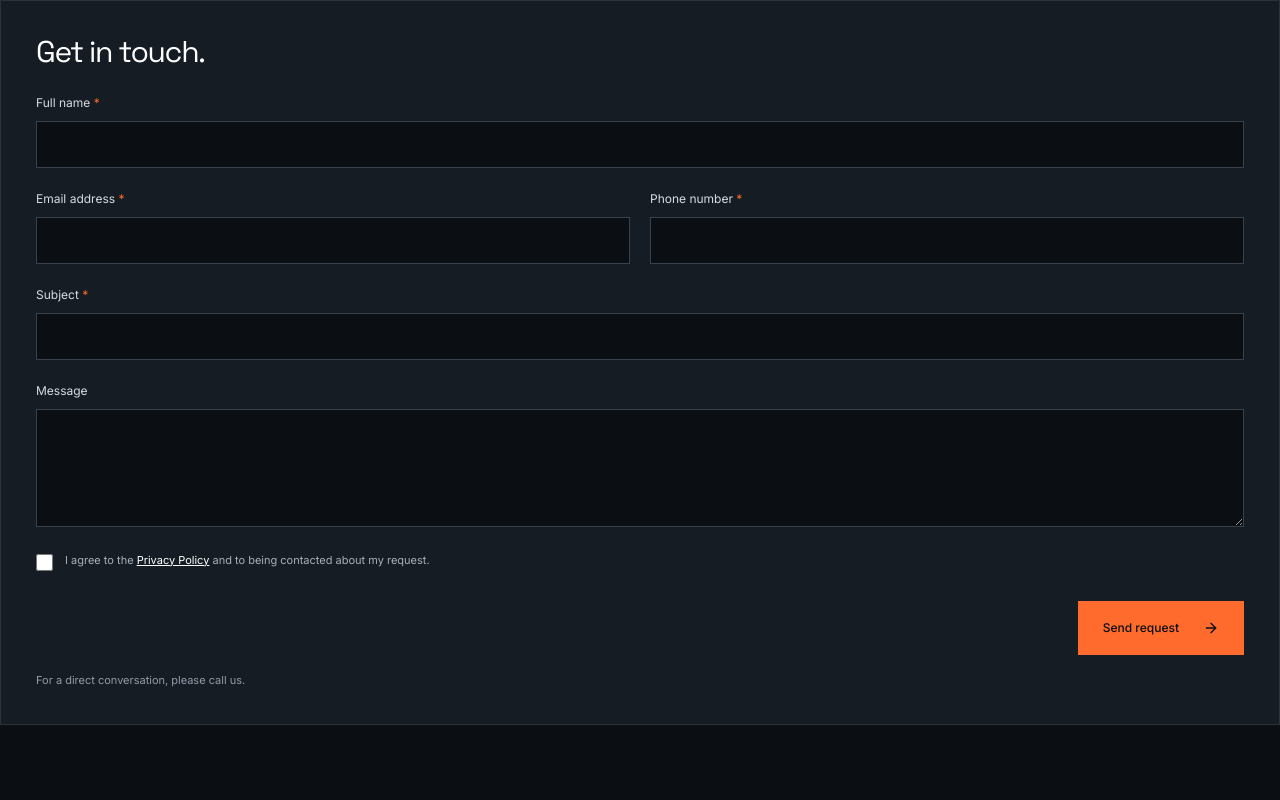
Test case: does not treat an unacknowledged response as success
Type "Test Person" into the field labelled "Full name *".
click(640, 144); type("Test Person")  # box x1=36 y1=121 x2=1244 y2=168
Type "test@example.com" into the field labelled "Email address *".
click(333, 240); type("test@example.com")  # box x1=36 y1=217 x2=630 y2=264
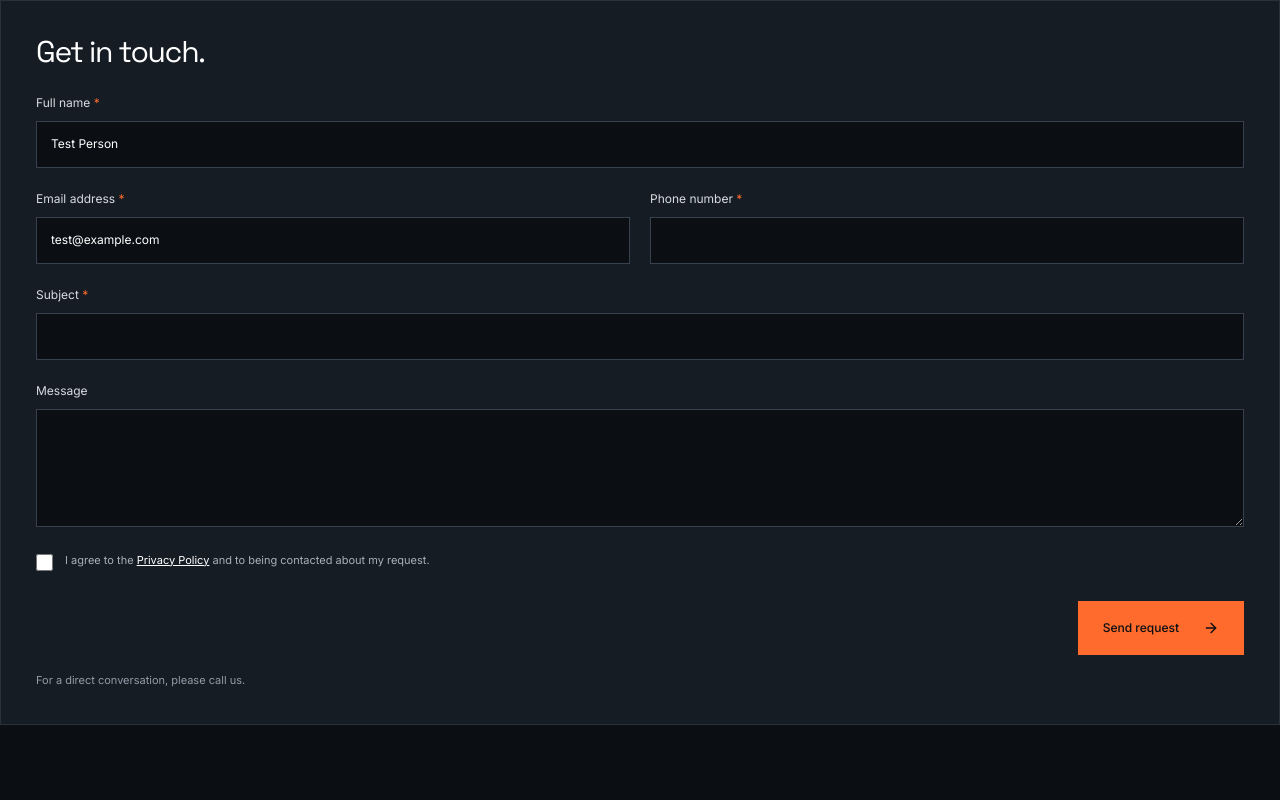
Type "7073098836" into the field labelled "Phone number *".
click(947, 240); type("7073098836")  # box x1=650 y1=217 x2=1244 y2=264
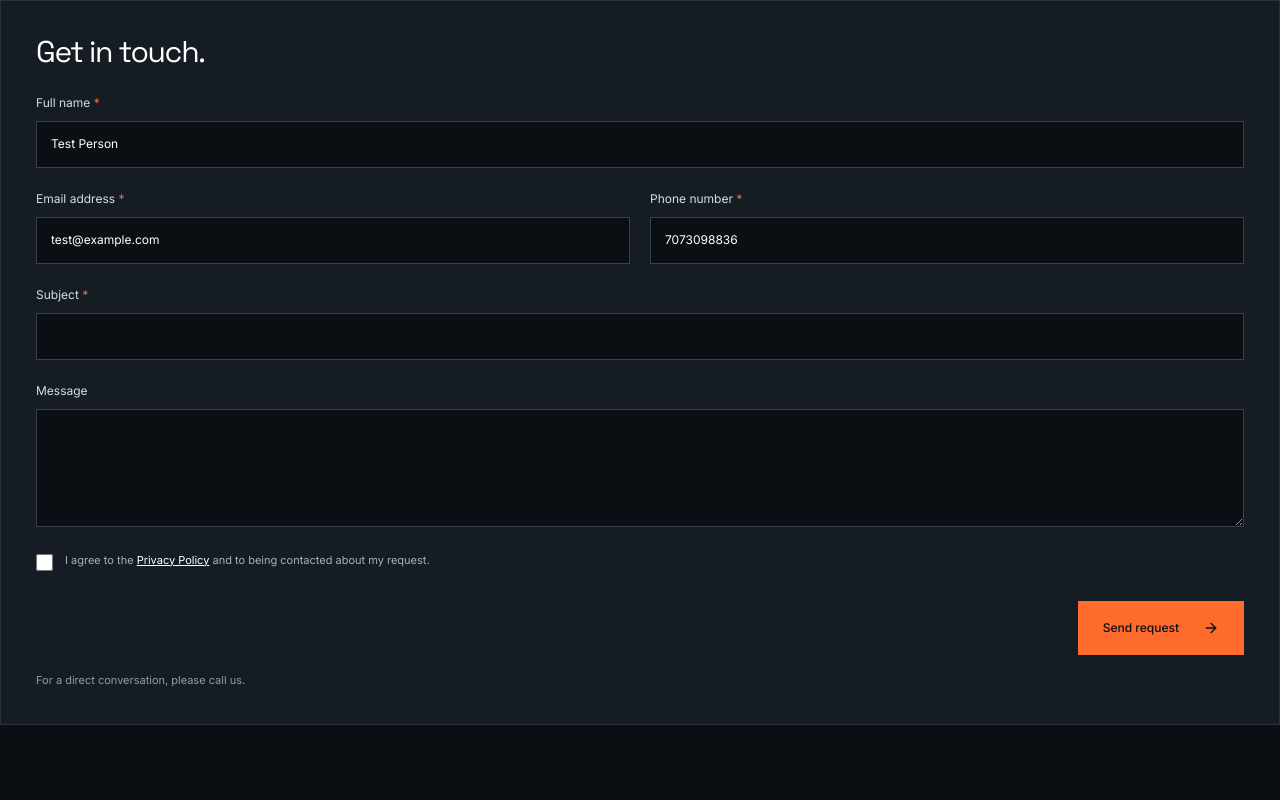
Type "Quote" into the field labelled "Subject *".
click(640, 336); type("Quote")  # box x1=36 y1=313 x2=1244 y2=360
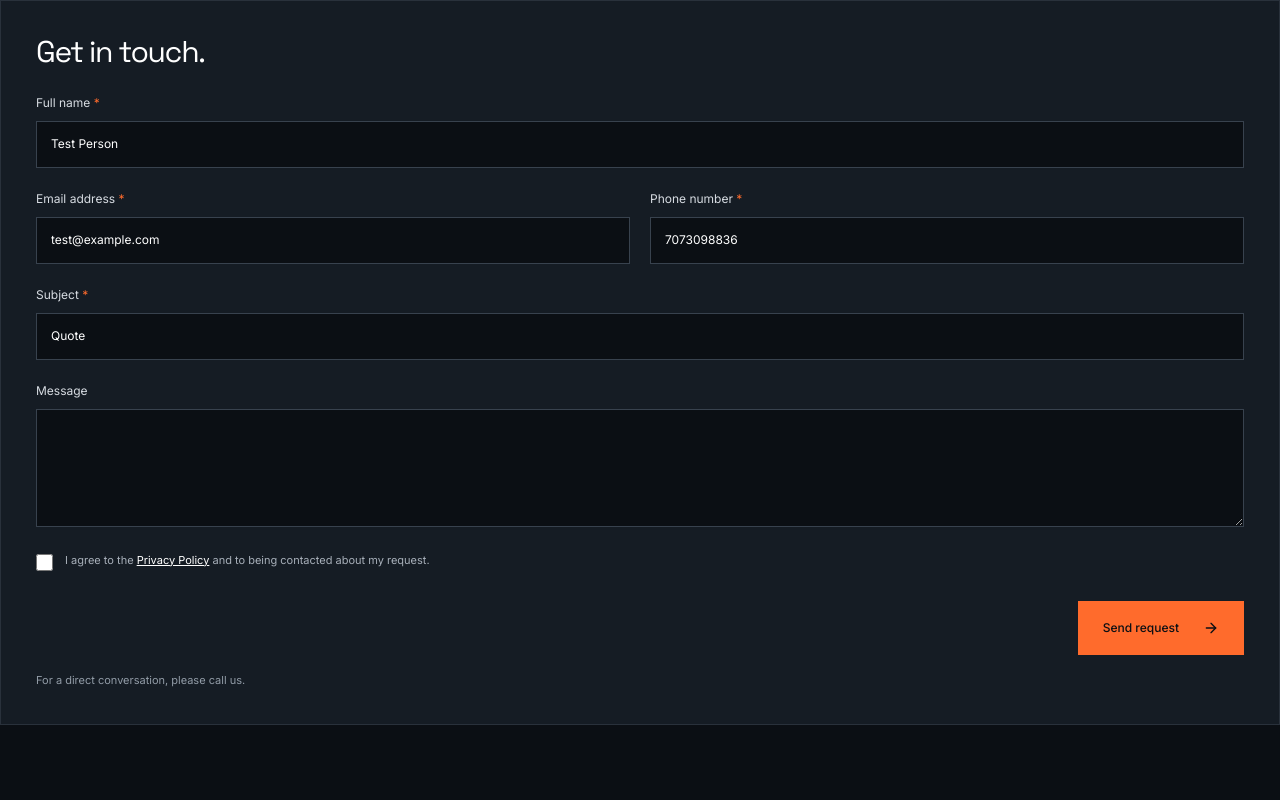
Type "Vehicle care enquiry" into the text box labelled "Message".
click(640, 468); type("Vehicle care enquiry")  # box x1=36 y1=409 x2=1244 y2=527
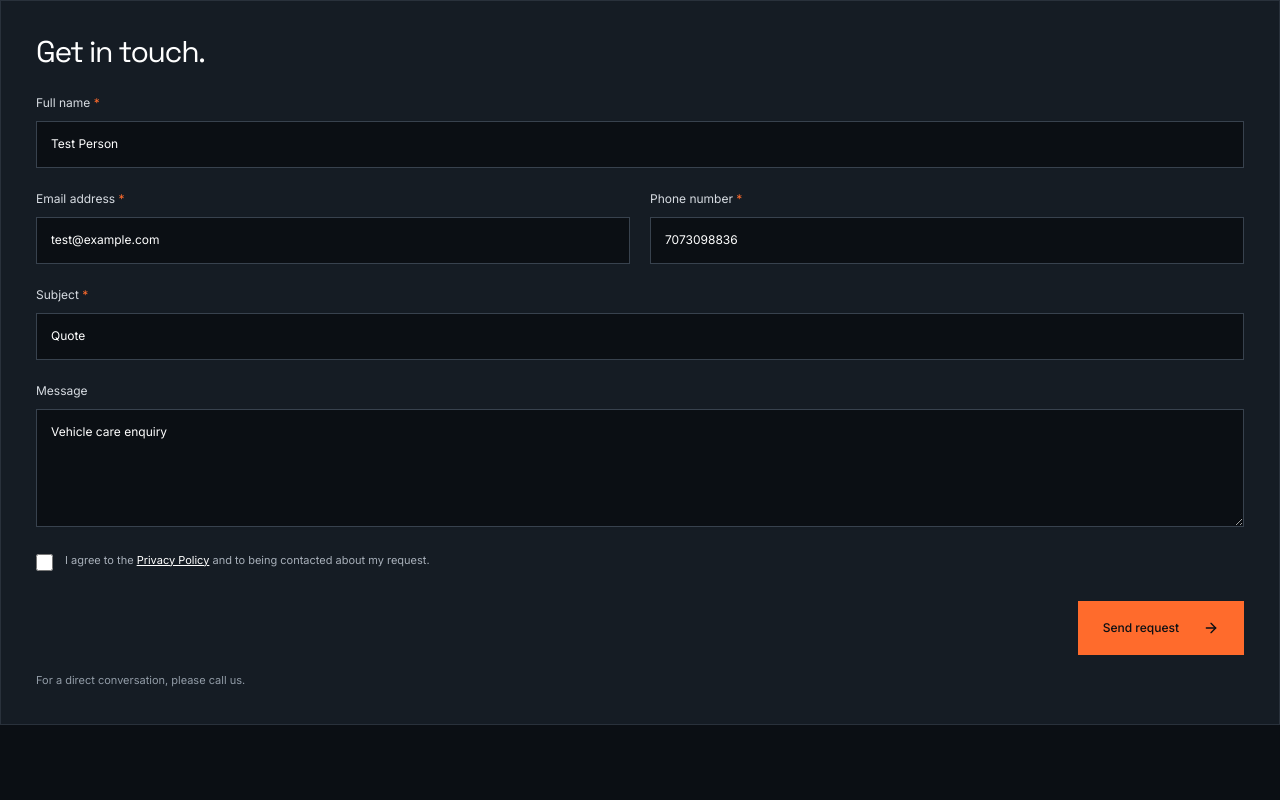
Click the checkbox.
click(44, 562)  # box x1=36 y1=554 x2=53 y2=571
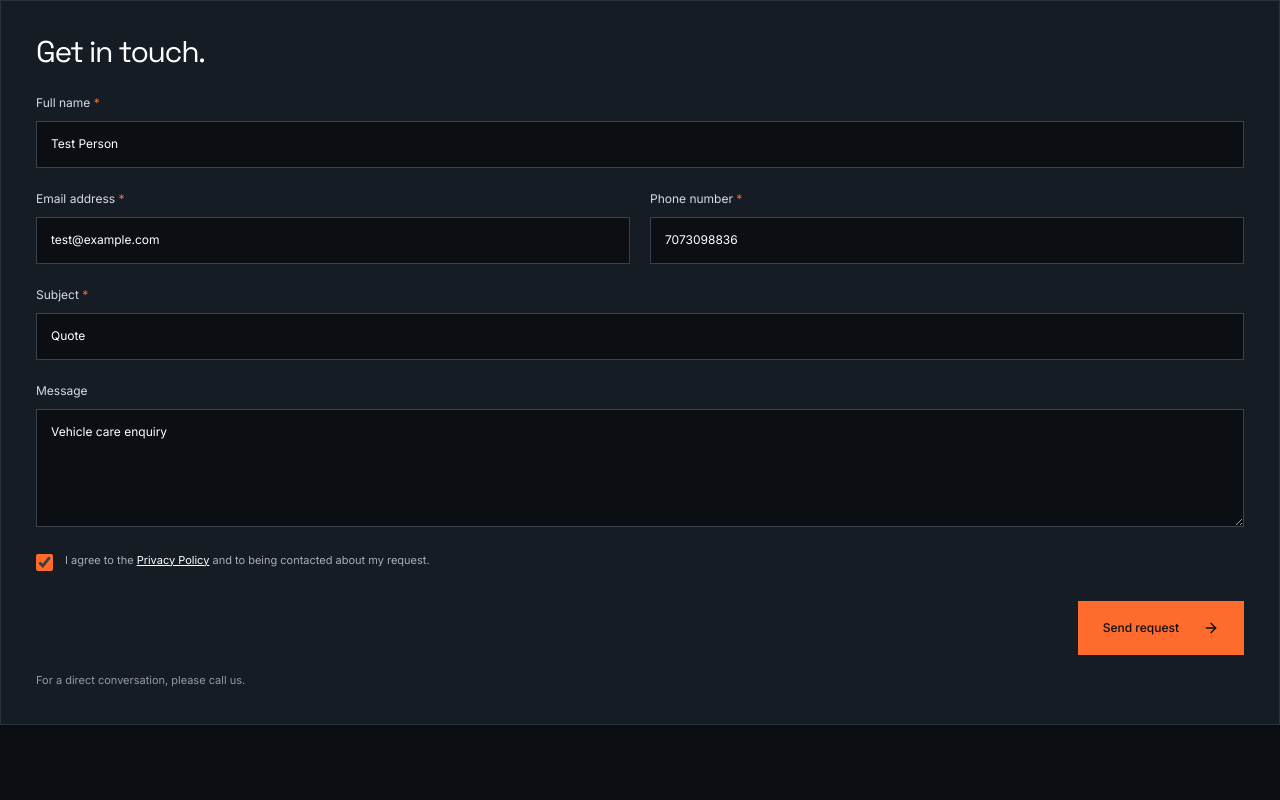
Submit the form
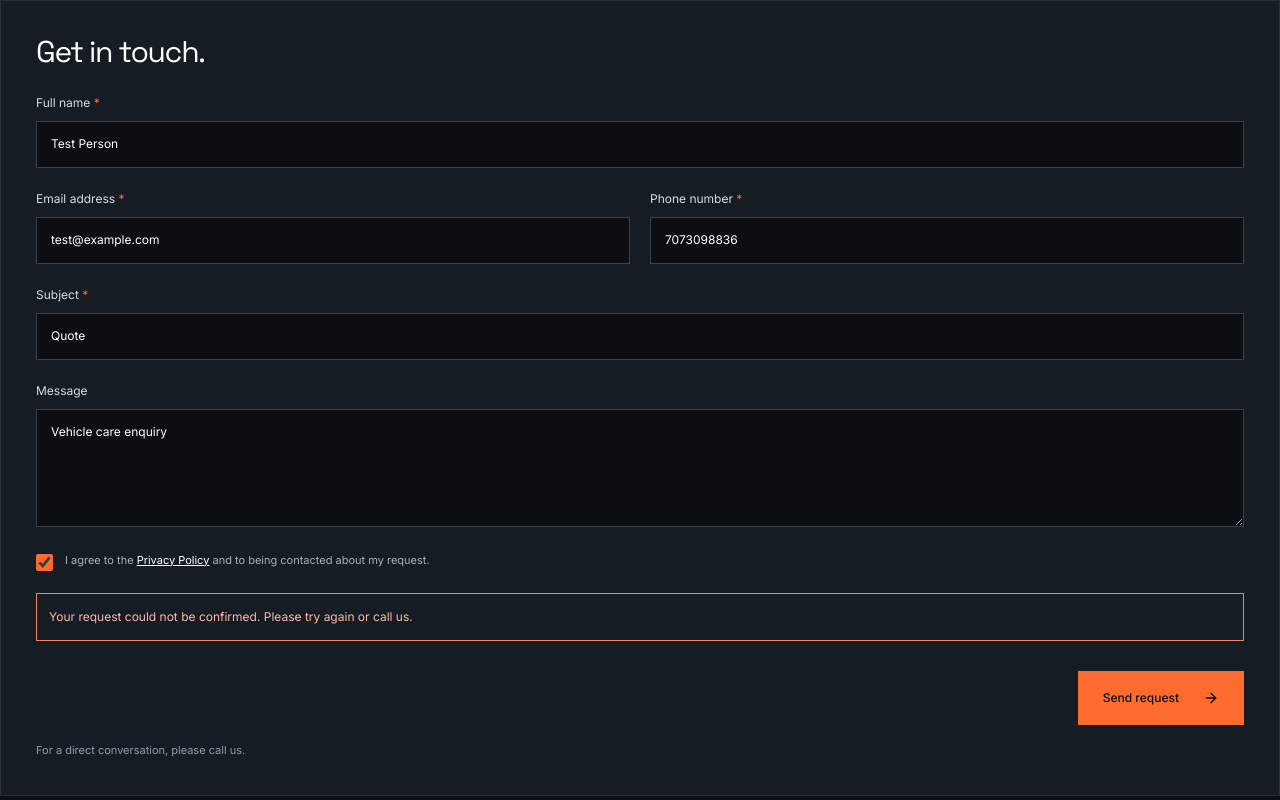
Now the message shows "could not be confirmed", box x1=49 y1=609 x2=413 y2=624
